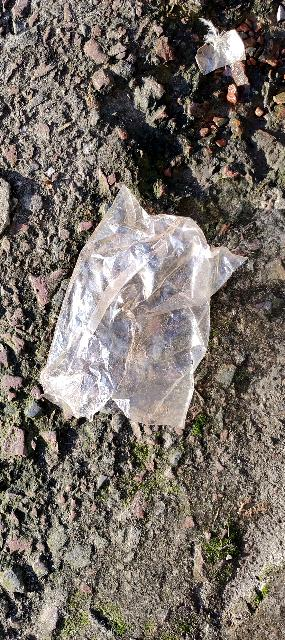polythene: (14, 155, 281, 467)
